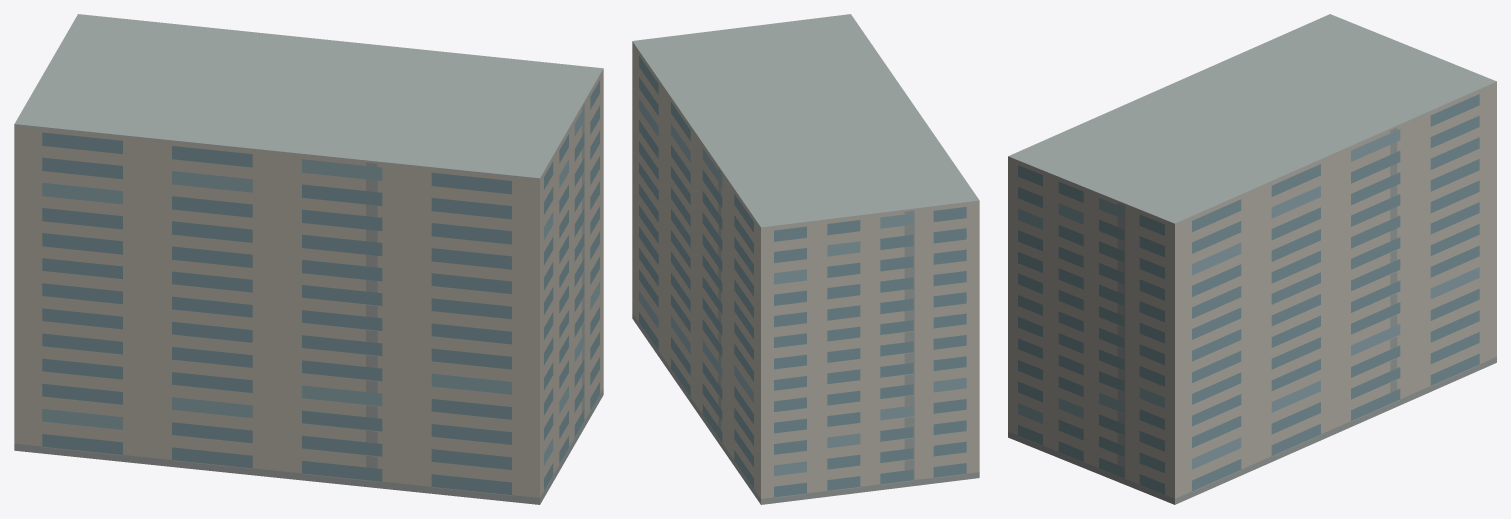
The model's file is residential-1a688c69-7e87-457b-bc10-de9fbb61afd6.glb.
3 views of the same model, side by side, from view 1: azimuth 30°, elevation 25°; view 2: azimuth 150°, elevation 25°; view 3: azimuth 270°, elevation 25° (orthographic). The views are drawn at different scales.
Parts seen in each view (by area): view 1: residential-1a688c69-7e87-457b-bc10-de9fbb61afd6.tmp; view 2: residential-1a688c69-7e87-457b-bc10-de9fbb61afd6.tmp; view 3: residential-1a688c69-7e87-457b-bc10-de9fbb61afd6.tmp.
Boxes of the visible parts, x1=… form: residential-1a688c69-7e87-457b-bc10-de9fbb61afd6.tmp: x1=14, y1=14, x2=603, y2=504; residential-1a688c69-7e87-457b-bc10-de9fbb61afd6.tmp: x1=632, y1=14, x2=979, y2=504; residential-1a688c69-7e87-457b-bc10-de9fbb61afd6.tmp: x1=1008, y1=14, x2=1496, y2=504.
Size of the model in its own units: 57.57 by 36 by 56.71.
